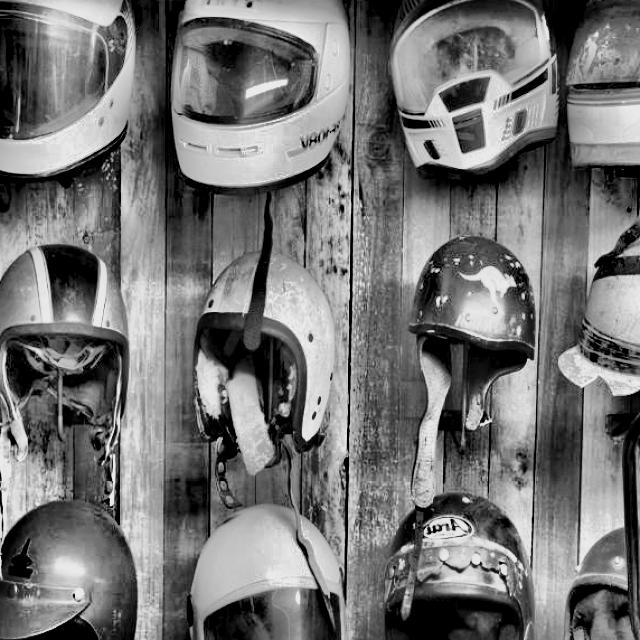Helmet: (162, 0, 355, 200), (184, 497, 352, 640), (0, 495, 145, 640)
